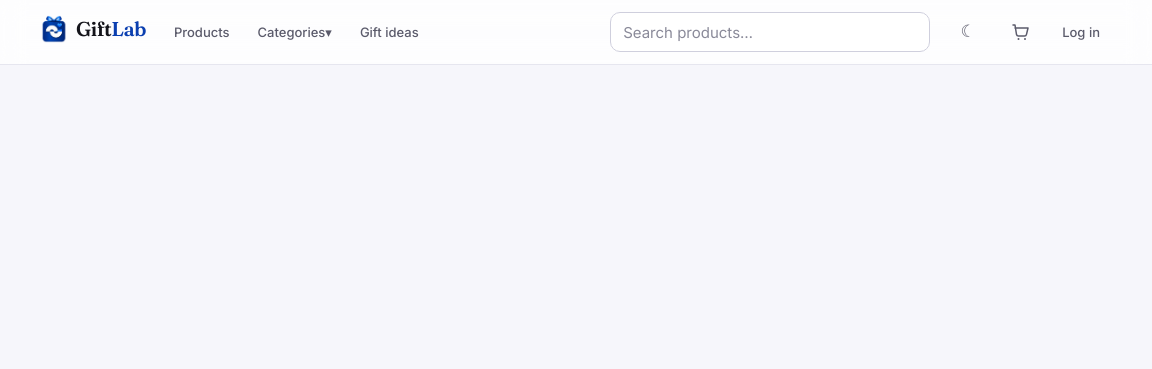
Test: opens the categories menu with marketplace category links
Click the button "Categories ▾": (295, 32) [246,10,344,54]
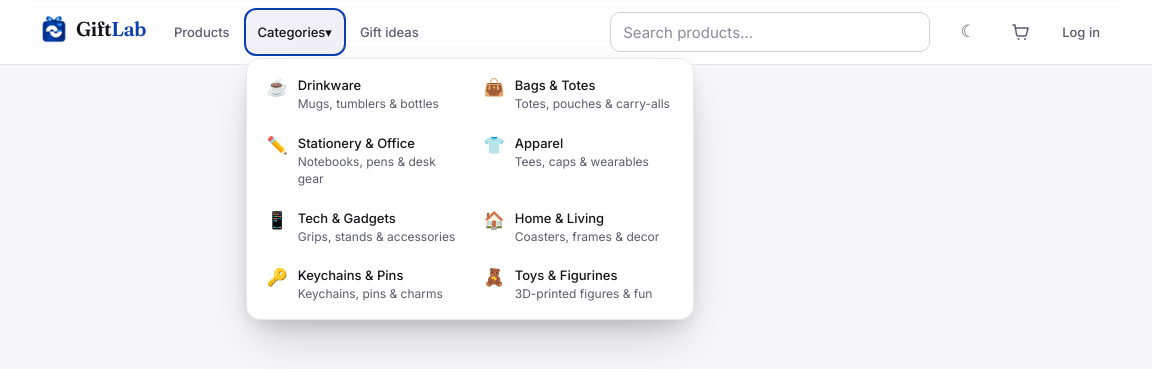
expect the link "🧸 Toys & Figurines 3D-printed figures & fun" is shown: met, box [484,267,652,301]
